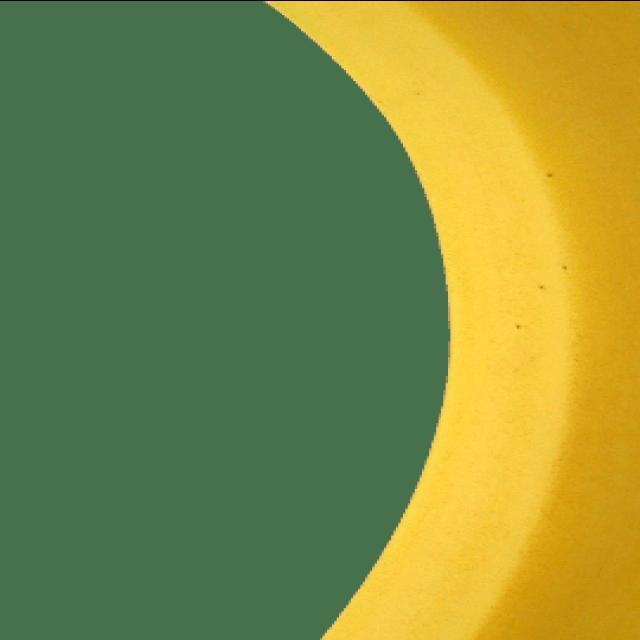banana: (260, 0, 640, 640)
